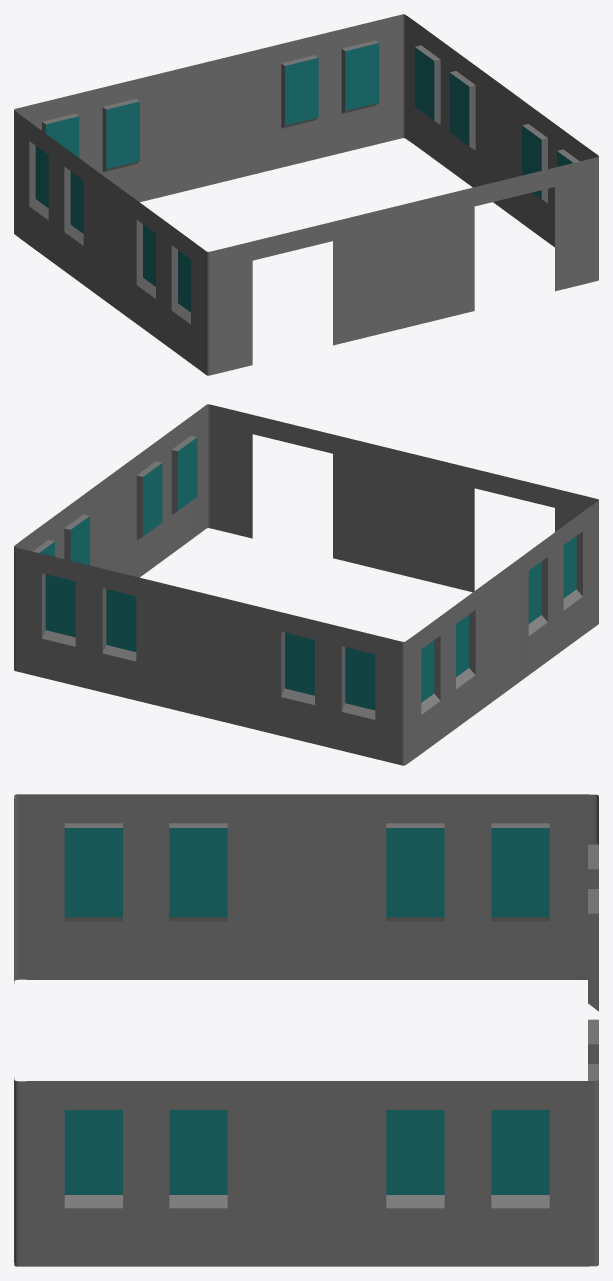
The model's file is Floor3.FBX.
3 renders of one model, top to bottom at view 1: azimuth 30°, elevation 25°; view 2: azimuth 150°, elevation 25°; view 3: azimuth 270°, elevation 25°, orthographic. The views are drawn at different scales.
Visible parts, largest first — view 1: Demi Mur 006; view 2: Demi Mur 006; view 3: Demi Mur 006.
Part boxes in pixels (x1,y1,x2,y2): Demi Mur 006: (14, 14, 598, 375); Demi Mur 006: (14, 404, 598, 765); Demi Mur 006: (14, 794, 598, 1266).
Bounding box in the file's own units: 796 × 240 × 686.
